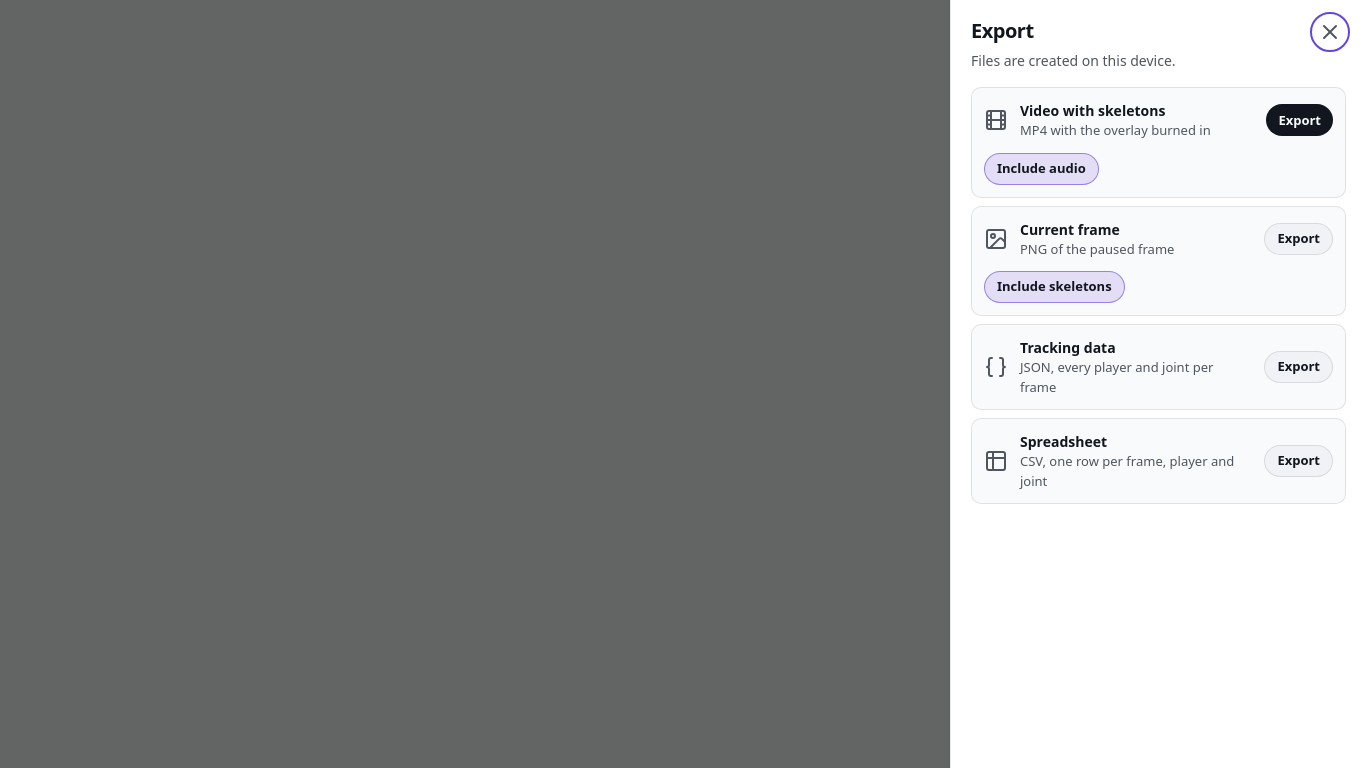
Scenario: Export cancel (UI/UX 4) › still reports a real export failure
Later steps or results of the test are not shown.
Click the button with aria-label "Export Video with skeletons" at (1300, 120), box [1266,104,1333,136]
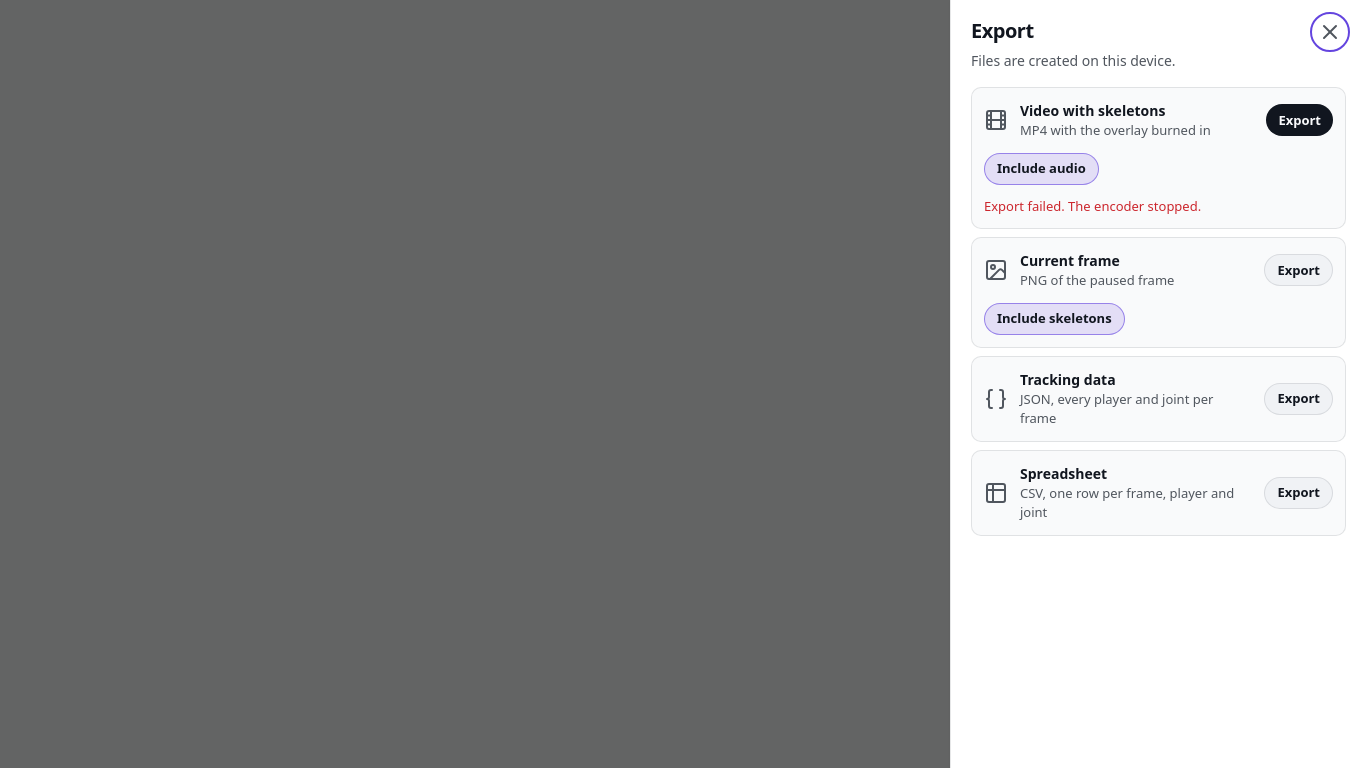
Expected: the message shows "Export failed", [984,196,1201,214]
